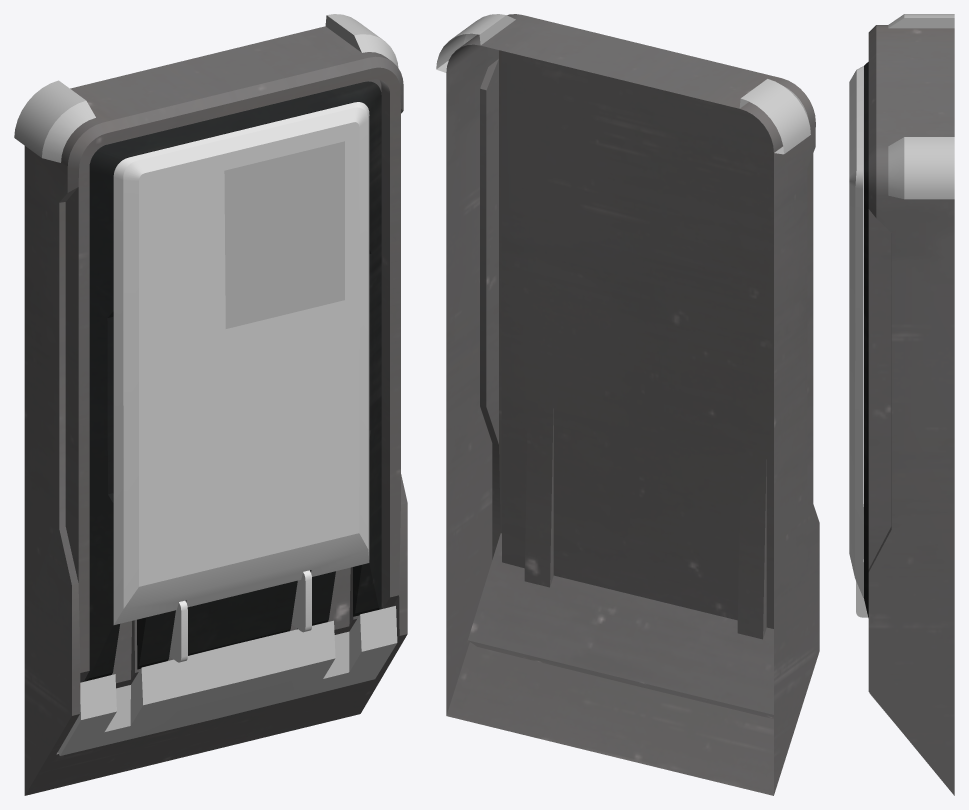
The model's file is KB3D_CBP_UtilityDevice_D.fbx.
3 renders of one model, left to right at view 1: azimuth 30°, elevation 25°; view 2: azimuth 150°, elevation 25°; view 3: azimuth 270°, elevation 25°, orthographic. The views are drawn at different scales.
Parts seen in each view (by area): view 1: KB3D_CBP_UtilityDevice_D_Main; view 2: KB3D_CBP_UtilityDevice_D_Main; view 3: KB3D_CBP_UtilityDevice_D_Main.
Part boxes in pixels (x1=…): KB3D_CBP_UtilityDevice_D_Main: x1=14, y1=14, x2=407, y2=795; KB3D_CBP_UtilityDevice_D_Main: x1=436, y1=14, x2=819, y2=795; KB3D_CBP_UtilityDevice_D_Main: x1=849, y1=14, x2=954, y2=795.
Size of the model in its own units: 44.33 by 83.95 by 12.53.
